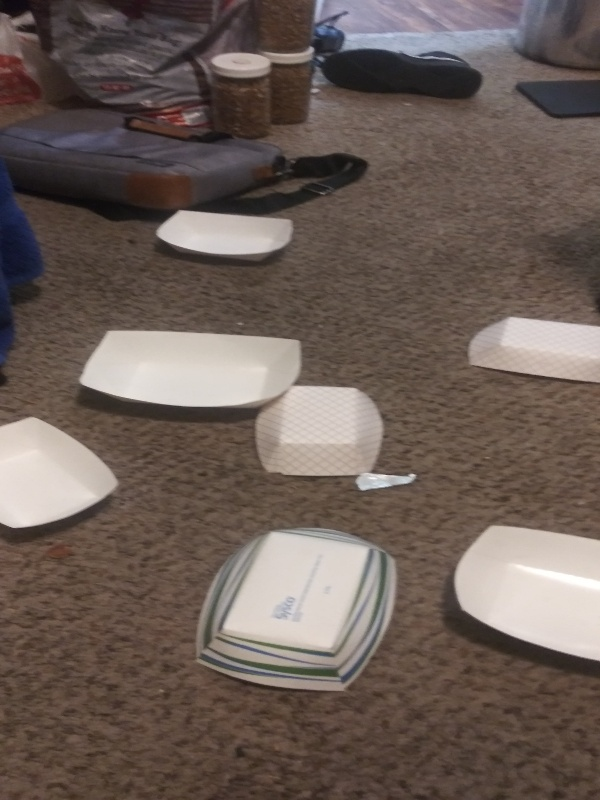plate: (190, 522, 407, 698), (447, 521, 600, 672), (75, 325, 305, 414), (1, 413, 122, 542), (253, 383, 386, 485), (465, 313, 600, 394), (151, 205, 294, 264)
